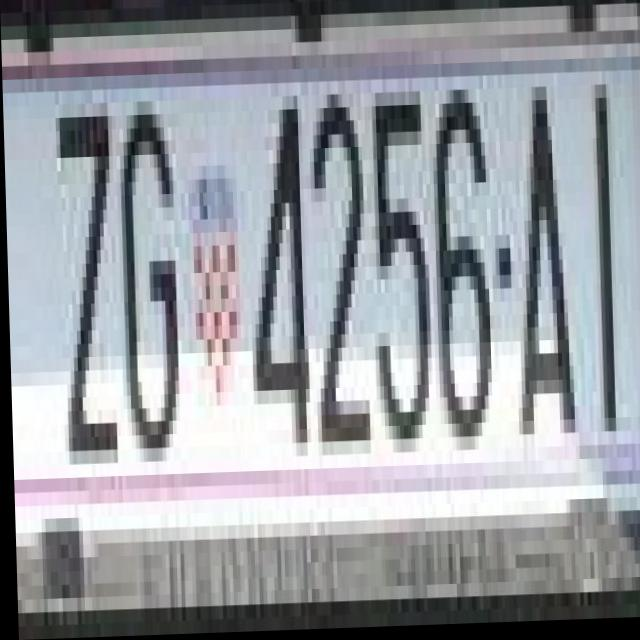2: (307, 83, 365, 458)
4: (244, 98, 316, 459)
5: (374, 94, 424, 443)
6: (423, 92, 494, 454)
A: (512, 77, 580, 439)
G: (114, 115, 183, 477)
Z: (50, 90, 119, 452)
